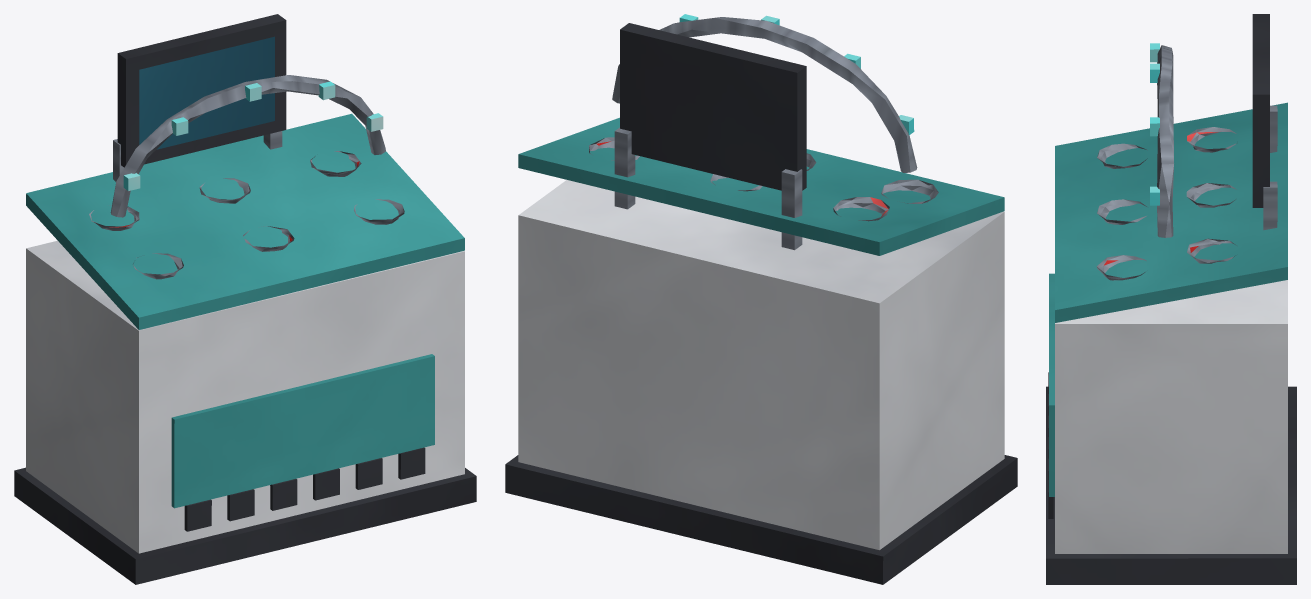
File: Env_Prop_HealingMachine_LOD2.fbx
The picture shows the model from 3 angles, left to right: view 1: azimuth 30°, elevation 25°; view 2: azimuth 150°, elevation 25°; view 3: azimuth 270°, elevation 25°; orthographic projection. The views are drawn at different scales.
Parts seen in each view (by area): view 1: Env_Prop_HealingMachine_LOD2; view 2: Env_Prop_HealingMachine_LOD2; view 3: Env_Prop_HealingMachine_LOD2.
Boxes of the visible parts, x1,y1,x2,y2 form: Env_Prop_HealingMachine_LOD2: [14, 14, 476, 584]; Env_Prop_HealingMachine_LOD2: [505, 14, 1017, 584]; Env_Prop_HealingMachine_LOD2: [1046, 14, 1296, 584].
Size of the model in its own units: 136 by 83.77 by 164.
